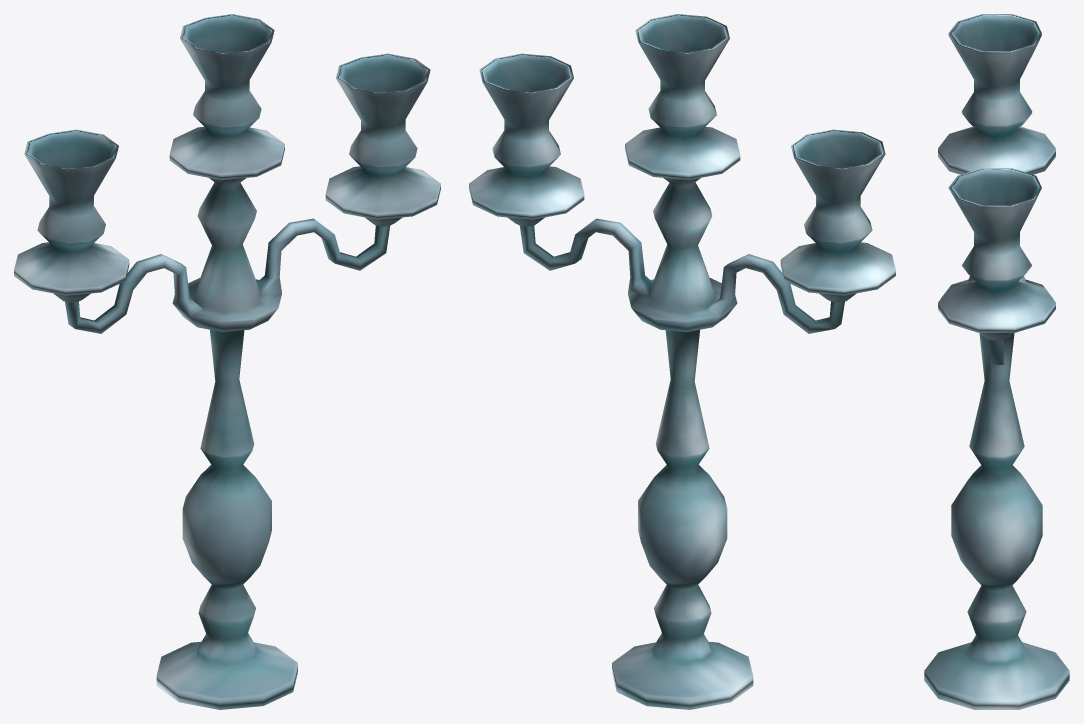
The model's file is candelabrum_05.fbx.
3 views of the same model, side by side, from view 1: azimuth 30°, elevation 25°; view 2: azimuth 150°, elevation 25°; view 3: azimuth 270°, elevation 25° (orthographic).
Parts seen in each view (by area): view 1: candelabrum_05; view 2: candelabrum_05; view 3: candelabrum_05.
Boxes of the visible parts, box(x1,y1,x2,y2) form: candelabrum_05: box(14, 14, 440, 709); candelabrum_05: box(469, 14, 895, 709); candelabrum_05: box(924, 14, 1069, 709).
Size of the model in its own units: 19.04 by 28.74 by 5.83.
